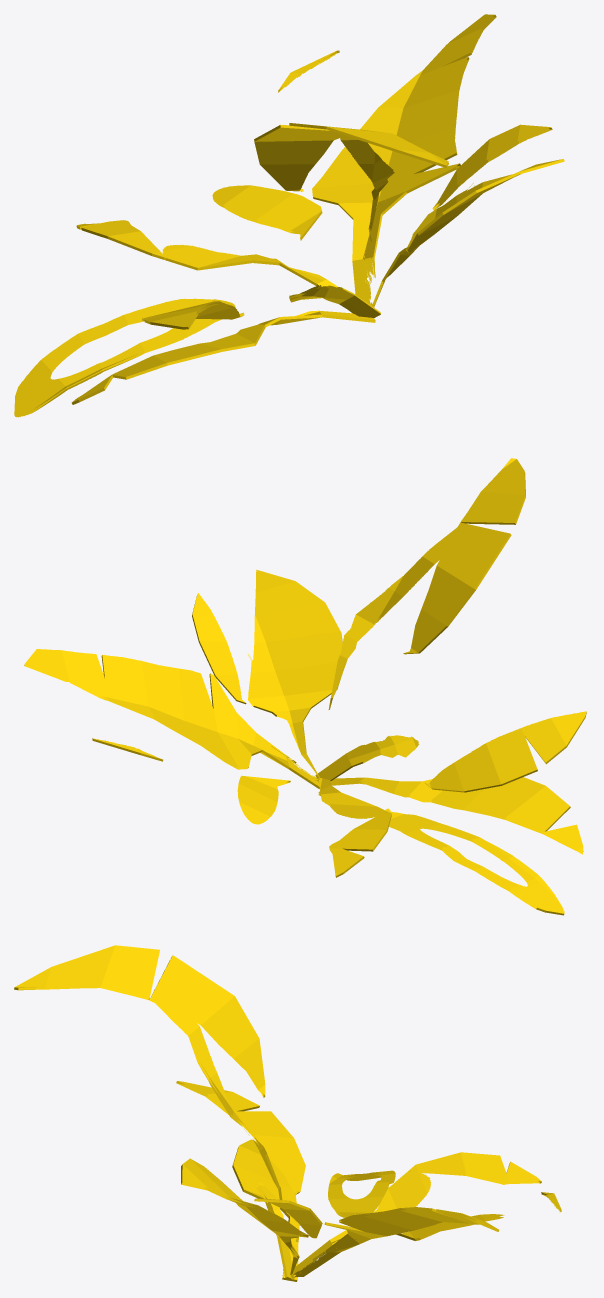
Rendered from GoldLeafyBush.fbx.
3 renders of one model, top to bottom at view 1: azimuth 30°, elevation 25°; view 2: azimuth 150°, elevation 25°; view 3: azimuth 270°, elevation 25°, orthographic. The views are drawn at different scales.
Parts seen in each view (by area): view 1: Leafy_Bush__2_; view 2: Leafy_Bush__2_; view 3: Leafy_Bush__2_.
Boxes of the visible parts, left/top/right/bottom form: Leafy_Bush__2_: left=14, top=14, right=564, bottom=417; Leafy_Bush__2_: left=24, top=458, right=586, bottom=915; Leafy_Bush__2_: left=14, top=945, right=561, bottom=1281.
Size of the model in its own units: 63.97 by 38.87 by 63.18.
